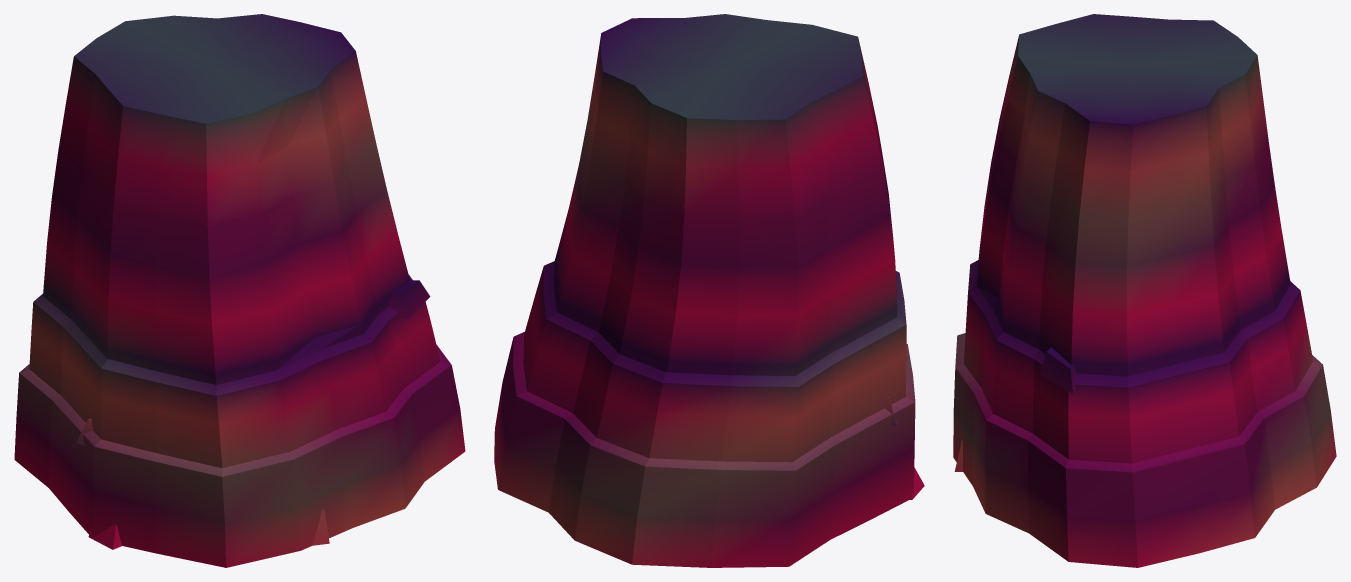
The model's file is SM_CinderCanyon_Rock_B_LOD1.fbx.
3 views of the same model, side by side, from view 1: azimuth 30°, elevation 25°; view 2: azimuth 150°, elevation 25°; view 3: azimuth 270°, elevation 25° (orthographic). The views are drawn at different scales.
Visible parts, largest first — view 1: SM_CinderCanyon_Rock_B_LOD1; view 2: SM_CinderCanyon_Rock_B_LOD1; view 3: SM_CinderCanyon_Rock_B_LOD1.
Boxes of the visible parts, left/top/right/bottom form: SM_CinderCanyon_Rock_B_LOD1: left=14, top=14, right=465, bottom=567; SM_CinderCanyon_Rock_B_LOD1: left=494, top=14, right=924, bottom=567; SM_CinderCanyon_Rock_B_LOD1: left=953, top=14, right=1336, bottom=567.
Bounding box in the file's own units: 100 × 91 × 104.
